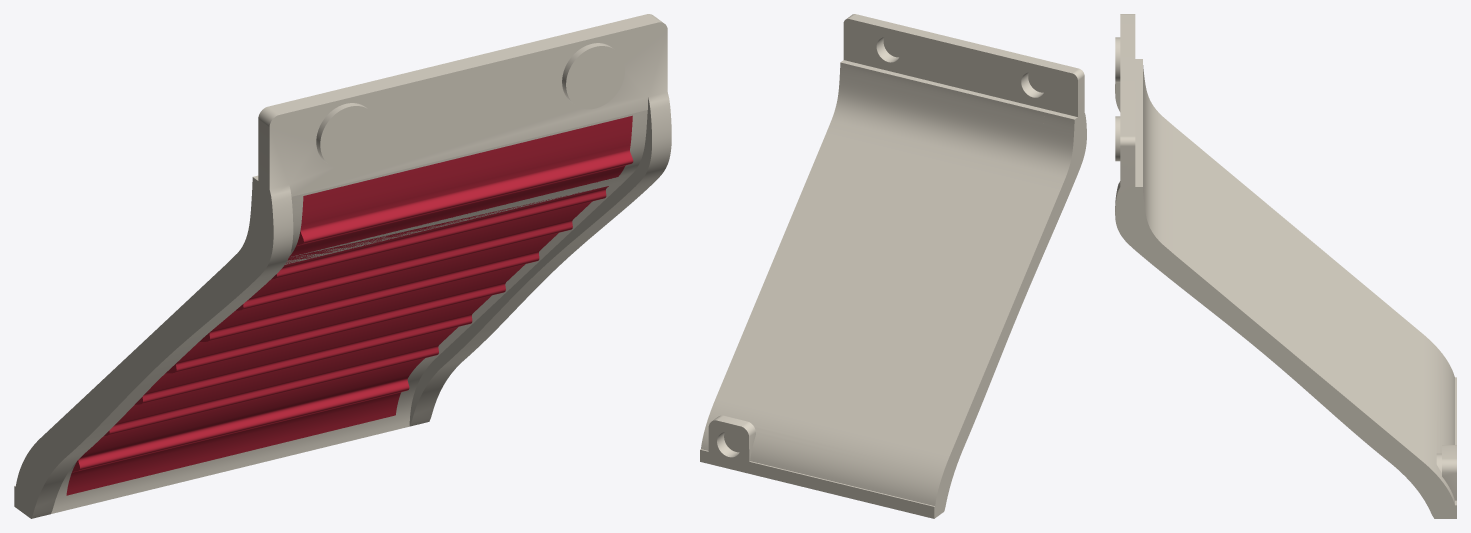
The picture shows the model from 3 angles, left to right: view 1: azimuth 30°, elevation 25°; view 2: azimuth 150°, elevation 25°; view 3: azimuth 270°, elevation 25°; orthographic projection. The views are drawn at different scales.
Parts seen in each view (by area): view 1: G05_ChristmasRed, G05_Snow; view 2: G05_Snow; view 3: G05_Snow.
Part boxes in pixels (<box>): G05_ChristmasRed: <box>66,115,633,495</box>; G05_Snow: <box>14,14,671,518</box>; G05_Snow: <box>700,14,1086,518</box>; G05_Snow: <box>1115,14,1456,518</box>.
Size of the model in its own units: 81 by 112 by 91.43.
